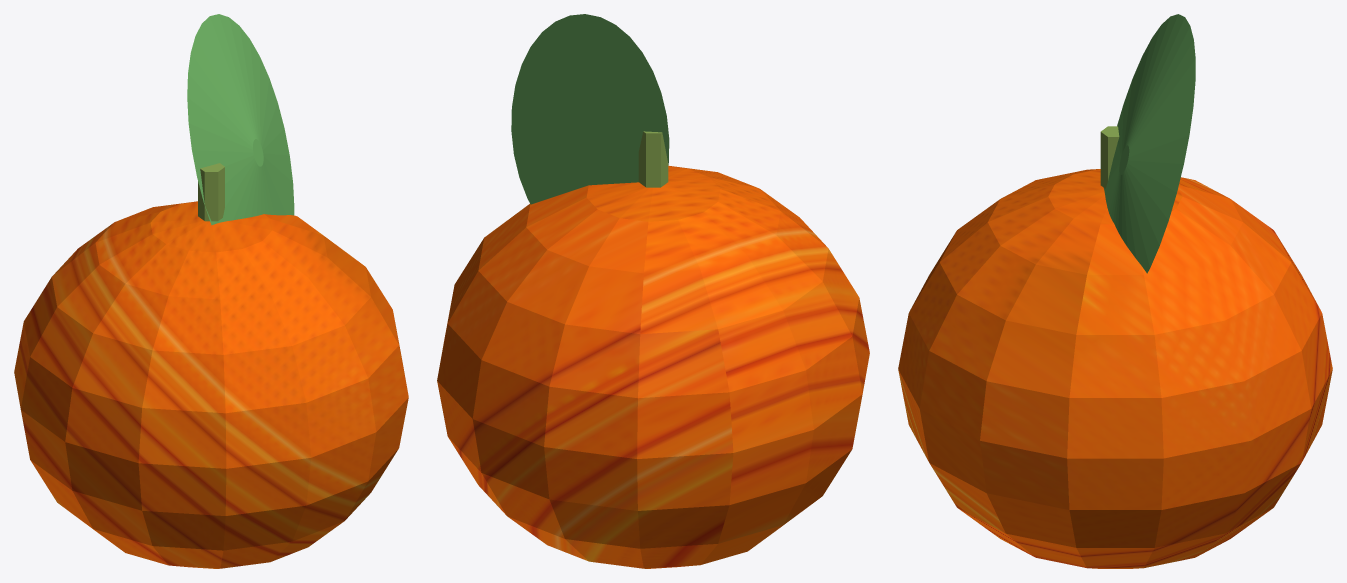
Rendered from orange.glb.
The picture shows the model from 3 angles, left to right: view 1: azimuth 30°, elevation 25°; view 2: azimuth 150°, elevation 25°; view 3: azimuth 270°, elevation 25°; orthographic projection. The views are drawn at different scales.
Visible parts, largest first — view 1: Orange; view 2: Orange; view 3: Orange.
Boxes of the visible parts, x1,y1,x2,y2 form: Orange: [14, 14, 408, 568]; Orange: [437, 14, 869, 568]; Orange: [898, 14, 1332, 568].
Bounding box in the file's own units: 0.429 × 0.6132 × 0.44.
Materials: 3 (1 with a texture image).
